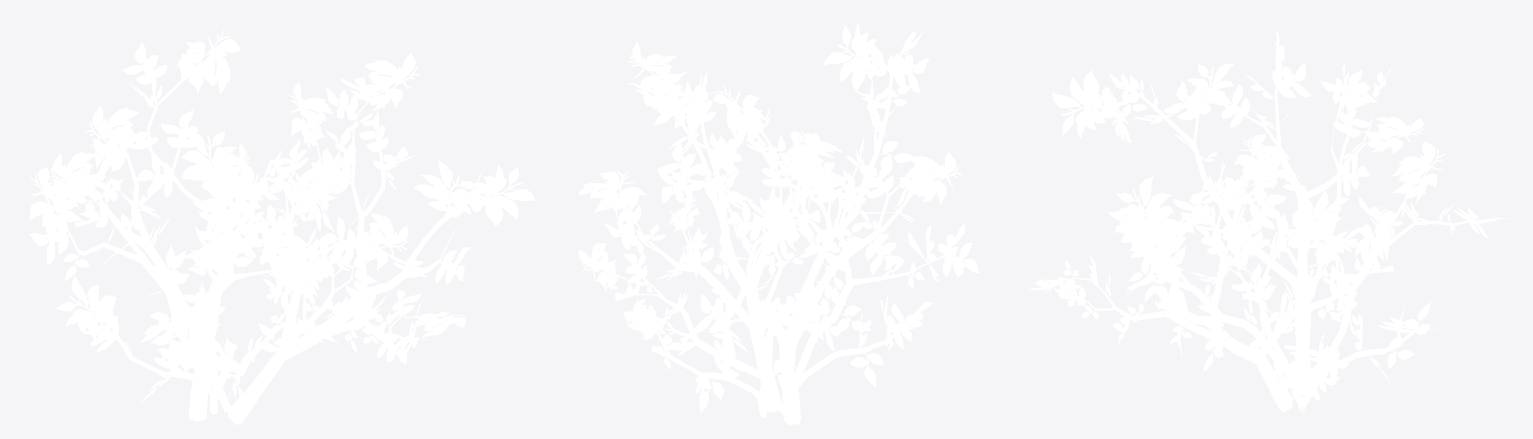
The picture shows the model from 3 angles, left to right: view 1: azimuth 30°, elevation 25°; view 2: azimuth 150°, elevation 25°; view 3: azimuth 270°, elevation 25°; orthographic projection. The views are drawn at different scales.
Visible parts, largest first — view 1: SM_Cadavaberry_Bush_Dead_LOD0; view 2: SM_Cadavaberry_Bush_Dead_LOD0; view 3: SM_Cadavaberry_Bush_Dead_LOD0.
Part boxes in pixels (bbox=[...]): SM_Cadavaberry_Bush_Dead_LOD0: bbox=[29, 30, 534, 424]; SM_Cadavaberry_Bush_Dead_LOD0: bbox=[578, 23, 979, 424]; SM_Cadavaberry_Bush_Dead_LOD0: bbox=[1029, 29, 1506, 415].
Size of the model in its own units: 1.57 by 1.34 by 1.69.
1 material, 1 textured.
